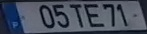0: (37, 3, 55, 29)
1: (115, 2, 129, 27)
5: (50, 3, 69, 29)
7: (101, 2, 116, 29)
E: (82, 2, 106, 28)
T: (67, 3, 84, 29)
